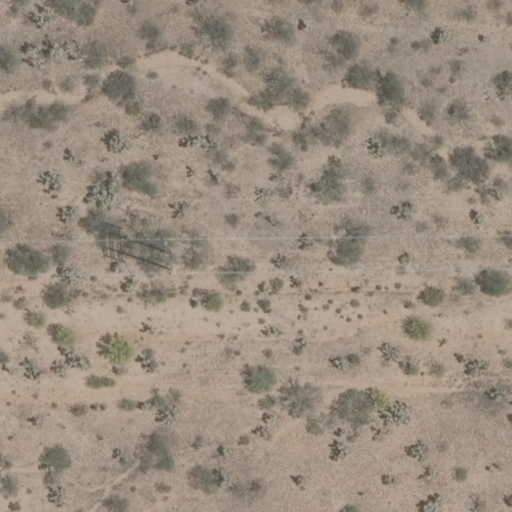TT: (98, 231, 170, 270)
